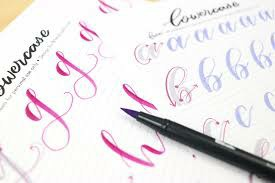pen: (119, 108, 269, 183)
